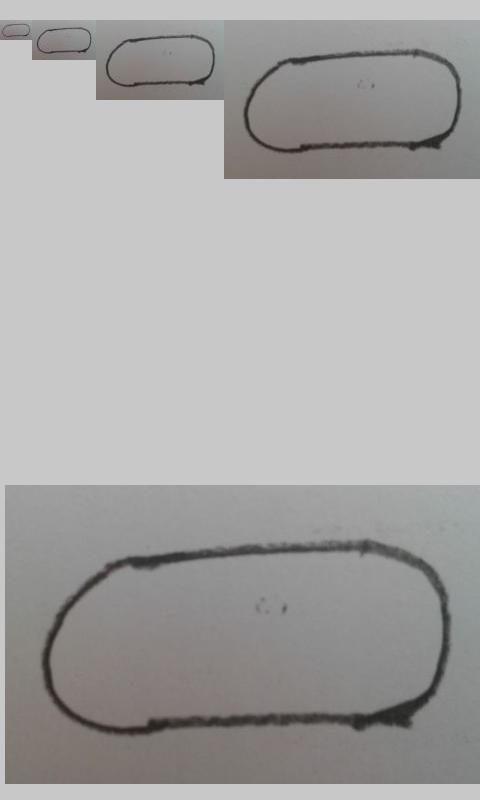chip: (42, 540, 454, 738), (243, 50, 462, 154), (105, 34, 216, 88), (36, 27, 92, 54), (1, 23, 32, 37)
